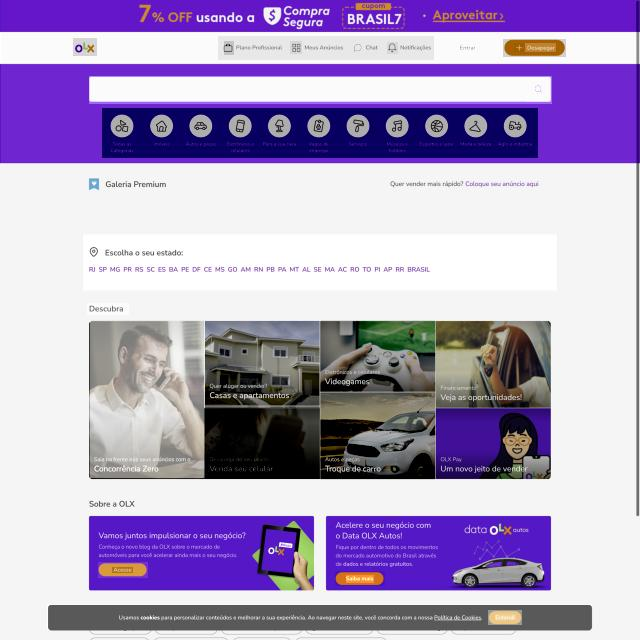CheckBox: (503, 39, 566, 57), (440, 39, 496, 56), (98, 562, 148, 578), (335, 571, 385, 586), (526, 77, 551, 102), (488, 610, 522, 625)
CheckedTextView: (89, 76, 552, 104)
ImageView: (1, 0, 638, 32)
bag: (1, 0, 639, 163)
breadcrumbs: (87, 303, 129, 315)
carousel: (532, 83, 546, 96), (290, 41, 302, 54), (224, 41, 234, 55), (387, 42, 398, 54), (352, 42, 362, 54), (514, 43, 524, 52)
copy: (90, 321, 205, 478), (320, 392, 435, 480), (205, 322, 320, 408), (204, 408, 320, 479), (321, 320, 435, 392)
data feed: (525, 43, 556, 52), (346, 575, 374, 583), (458, 43, 477, 51), (112, 567, 133, 573), (495, 614, 516, 620)
date picker: (73, 38, 97, 56)
decoration: (102, 108, 538, 158), (218, 36, 434, 60)
footer: (96, 84, 184, 94)
header: (47, 604, 592, 630)
